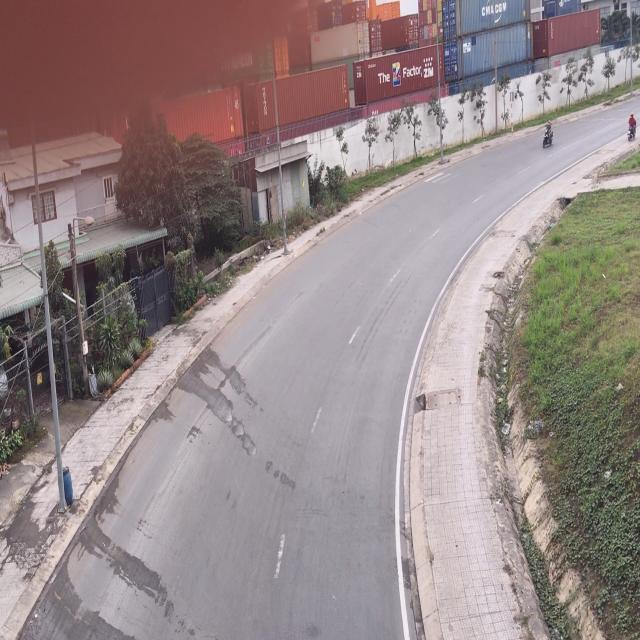motorbike: (540, 110, 553, 150), (628, 112, 639, 144)
